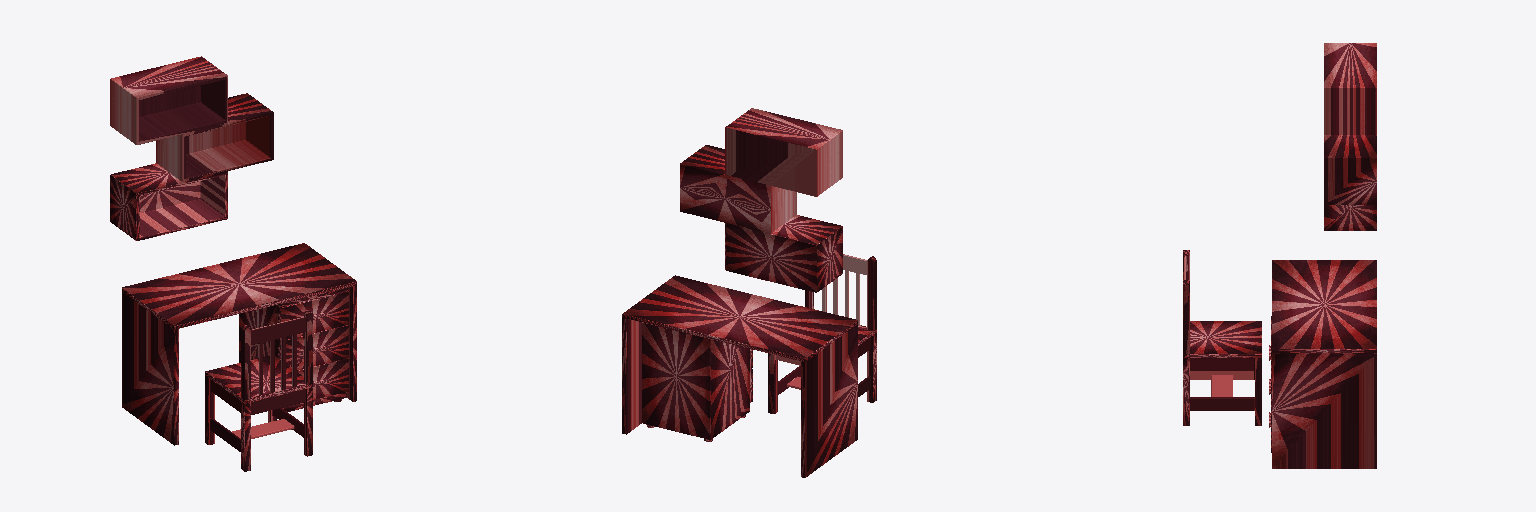
The picture shows the model from 3 angles: view 1: azimuth 30°, elevation 25°; view 2: azimuth 150°, elevation 25°; view 3: azimuth 270°, elevation 25°; orthographic projection.
Parts seen in each view (by area): view 1: Object01, Arc_object_03, Object02, Arc_object_05, Arc_object_09, Arc_object_04, Arc_object_10; view 2: Object01, Arc_object_03, Arc_object_04, Object02; view 3: Arc_object_03, Object01, Object02.
Boxes of the visible parts, <box> form: Object01: <box>110,56,273,240</box>; Arc_object_03: <box>122,243,356,445</box>; Object02: <box>205,310,312,471</box>; Arc_object_05: <box>278,291,348,340</box>; Arc_object_09: <box>278,325,348,370</box>; Arc_object_04: <box>239,288,348,411</box>; Arc_object_10: <box>297,358,348,399</box>; Object01: <box>680,108,842,292</box>; Arc_object_03: <box>622,275,857,477</box>; Arc_object_04: <box>642,323,749,439</box>; Object02: <box>768,254,876,413</box>; Arc_object_03: <box>1272,260,1376,468</box>; Object01: <box>1324,43,1376,230</box>; Object02: <box>1183,250,1261,425</box>.
Size of the model in its own units: 51 by 83 by 44.17.
1 materials, 1 textured.